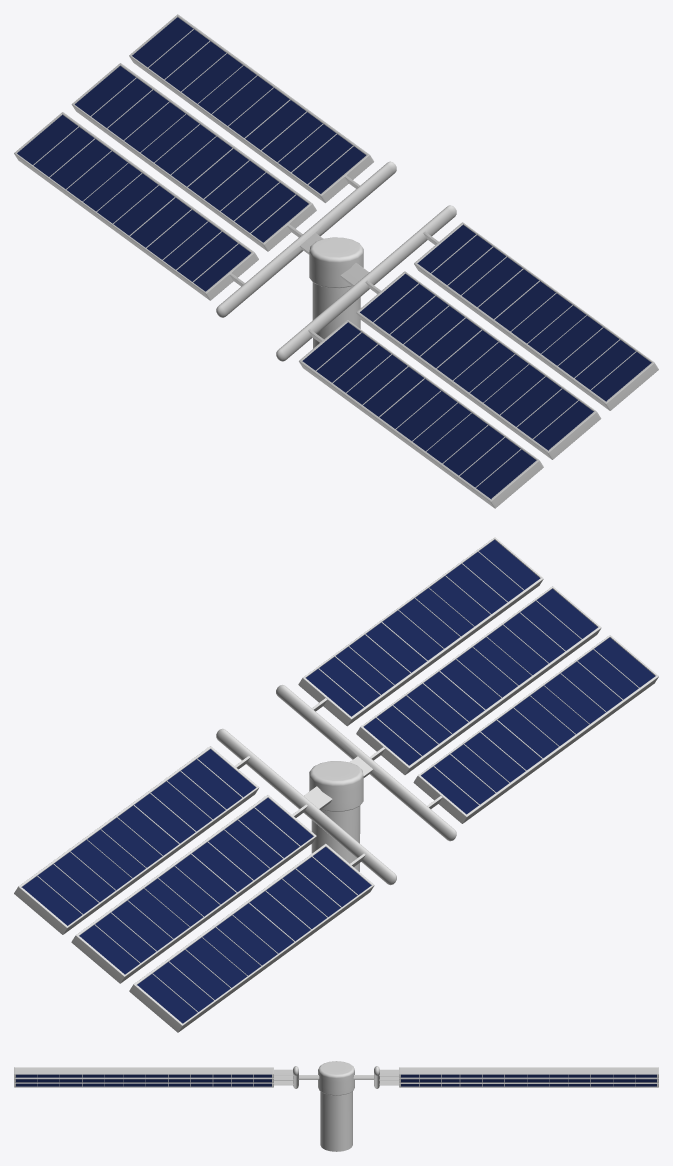
File: Solar_System_PreDMG.fbx
3 renders of one model, top to bottom at view 1: azimuth 30°, elevation 25°; view 2: azimuth 150°, elevation 25°; view 3: azimuth 270°, elevation 25°, orthographic. The views are drawn at different scales.
Visible parts, largest first — view 1: SolarPanel (×6), Metal_Frame (×6), Central_System, Right_Support, Left_Support; view 2: SolarPanel (×6), Metal_Frame (×6), Central_System, Left_Support, Right_Support; view 3: Metal_Frame (×6), SolarPanel (×6), Central_System, Right_Support, Left_Support.
Part boxes in pixels (x1,y1,x2,y2): SolarPanel (×6): (17,17,651,499); Metal_Frame (×6): (14,14,658,508); Central_System: (309,237,363,348); Right_Support: (276,205,456,361); Left_Support: (216,161,396,317); SolarPanel (×6): (22,539,655,1023); Metal_Frame (×6): (14,537,658,1032); Central_System: (309,761,363,871); Left_Support: (216,728,396,885); Right_Support: (276,685,456,841); Metal_Frame (×6): (14,1067,658,1087); SolarPanel (×6): (16,1074,656,1086); Central_System: (318,1061,354,1151); Right_Support: (293,1066,319,1088); Left_Support: (353,1066,379,1088).
Bounding box in the file's own units: 37.83 × 31.56 × 174.
